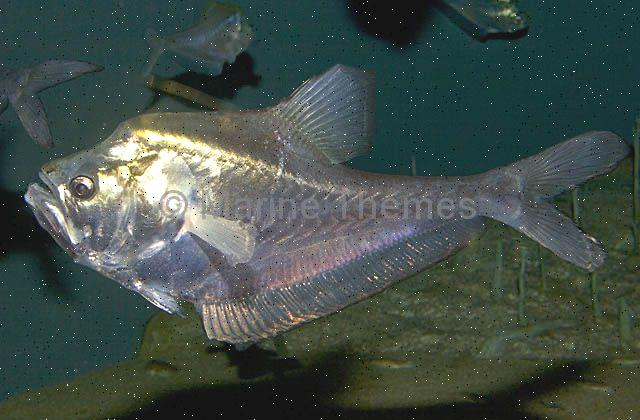Mulut: (16, 149, 78, 225)
Sirip Anal: (195, 212, 493, 350)
Sirip Dada: (178, 195, 260, 271)
Sirip Perut: (509, 123, 633, 276), (126, 274, 188, 332)
Sirip Punggung: (284, 50, 382, 174)
